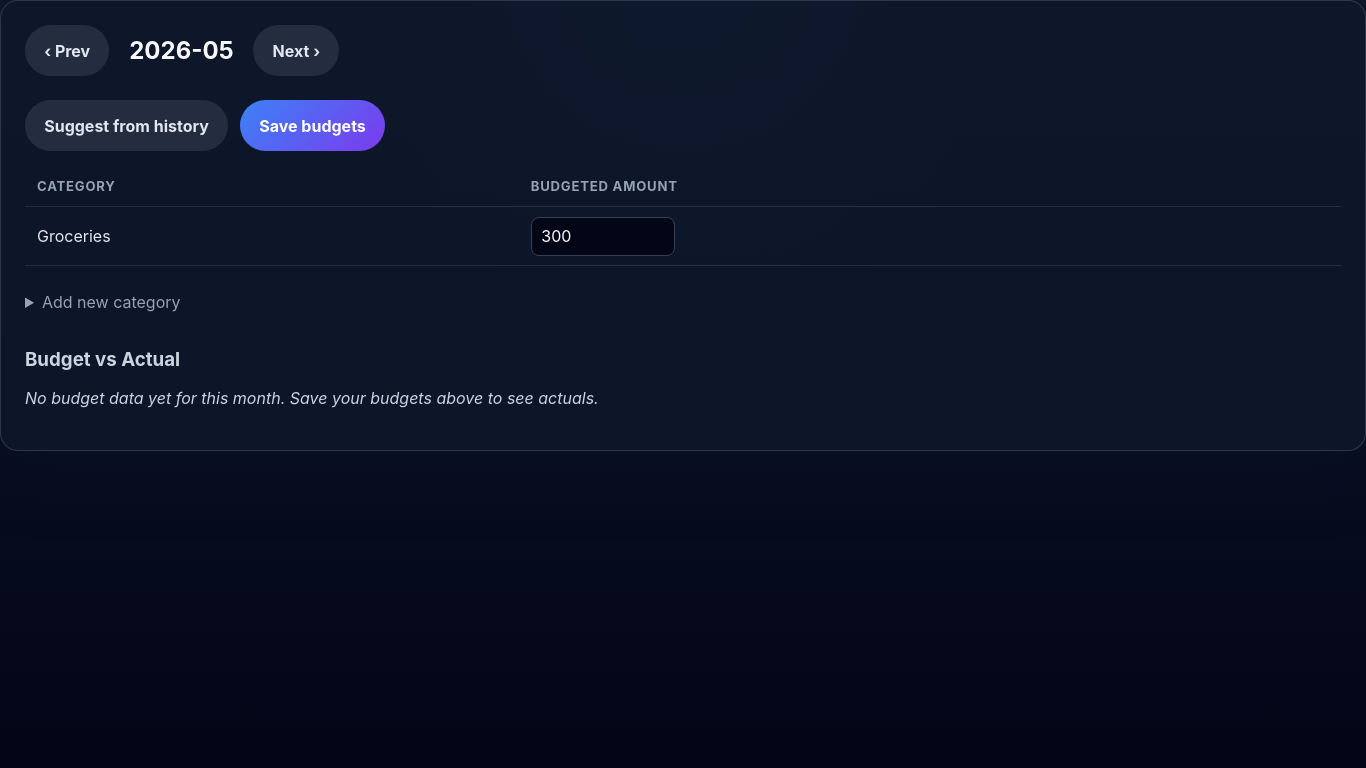
BudgetPage › creates a category without discarding existing budget edits
Expected: the text "Groceries" is shown, [25,207,519,266]
# Edit the Groceries amount
Replace the text in the number field named "budgeted amount for groceries" with "500" at [603, 236], box [531,217,675,256]
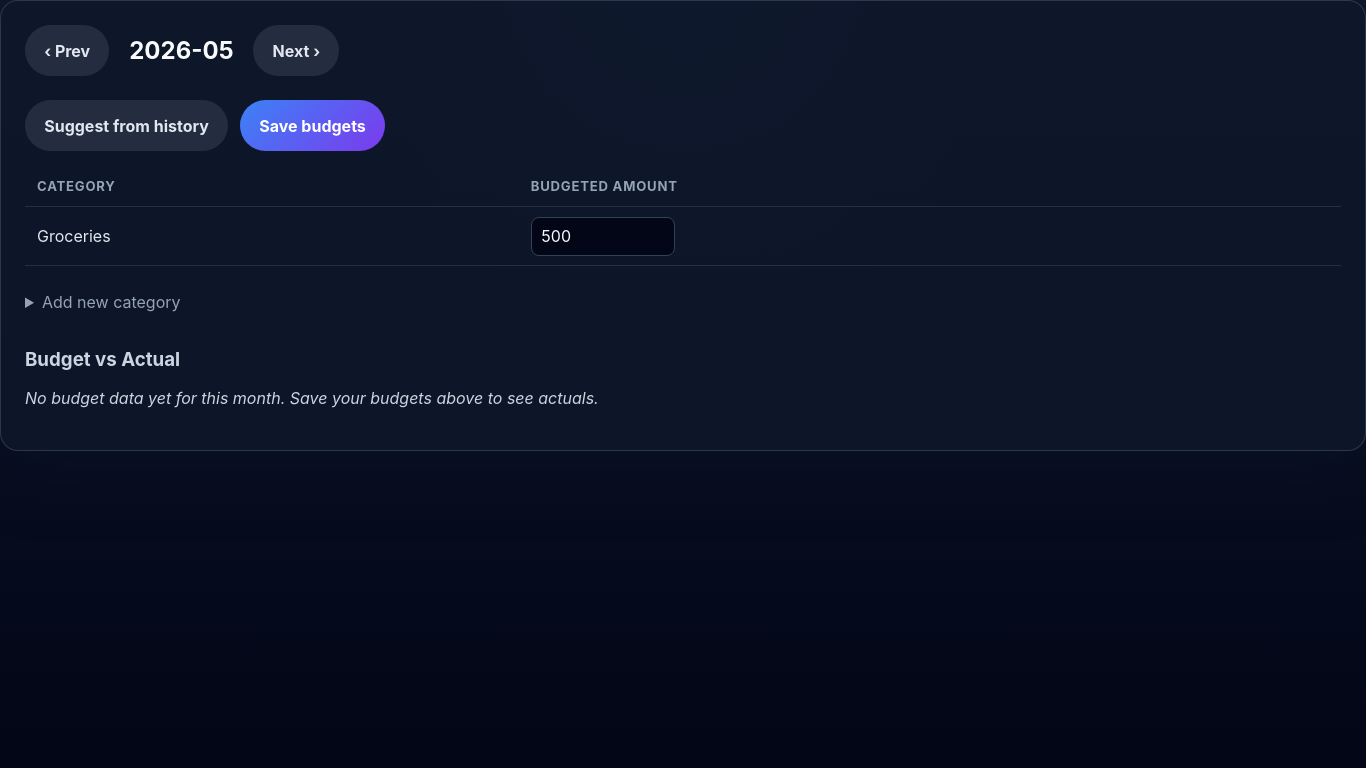
# Open the "Add new category" details panel and fill the form
Click the heading "Add new category" at [111, 302], box [42,292,180,312]
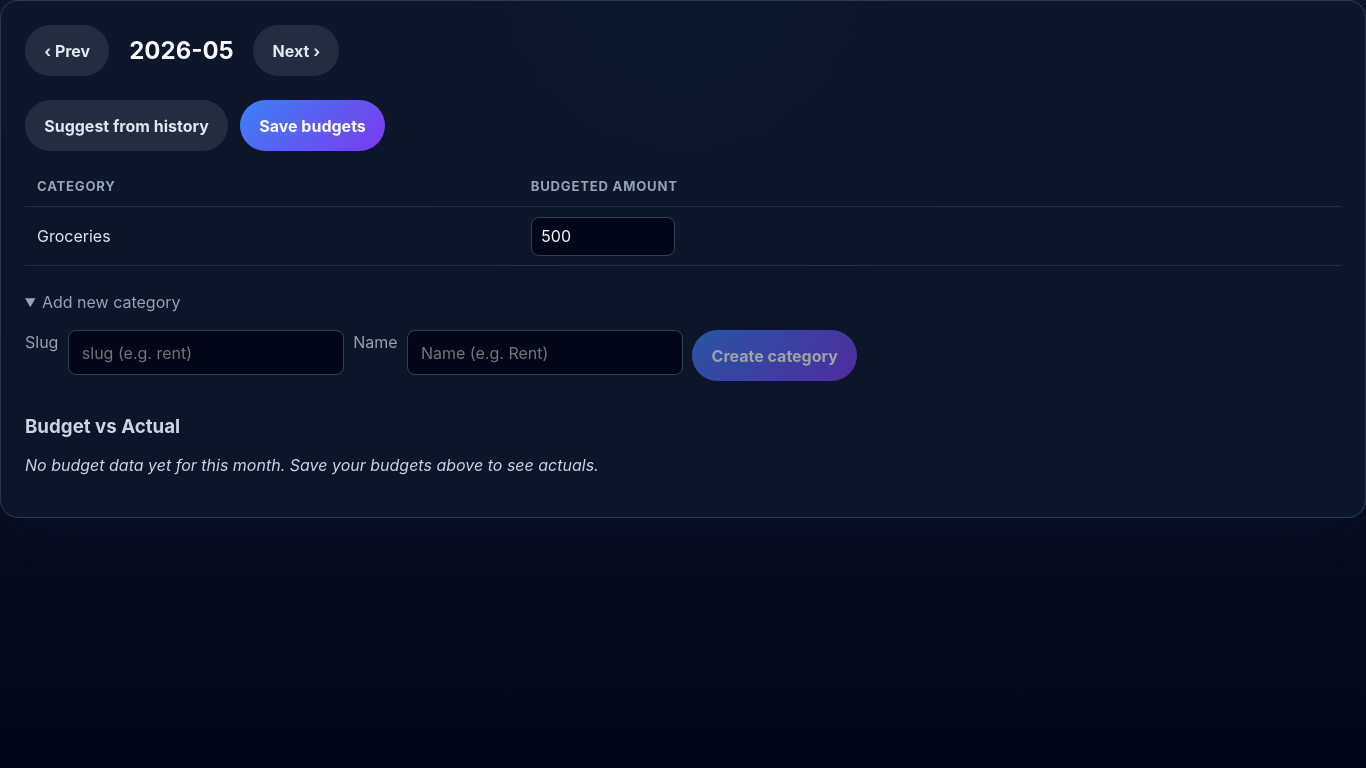
Type "rent" into the field labelled "Slug" at [206, 353], box [68,330,344,375]
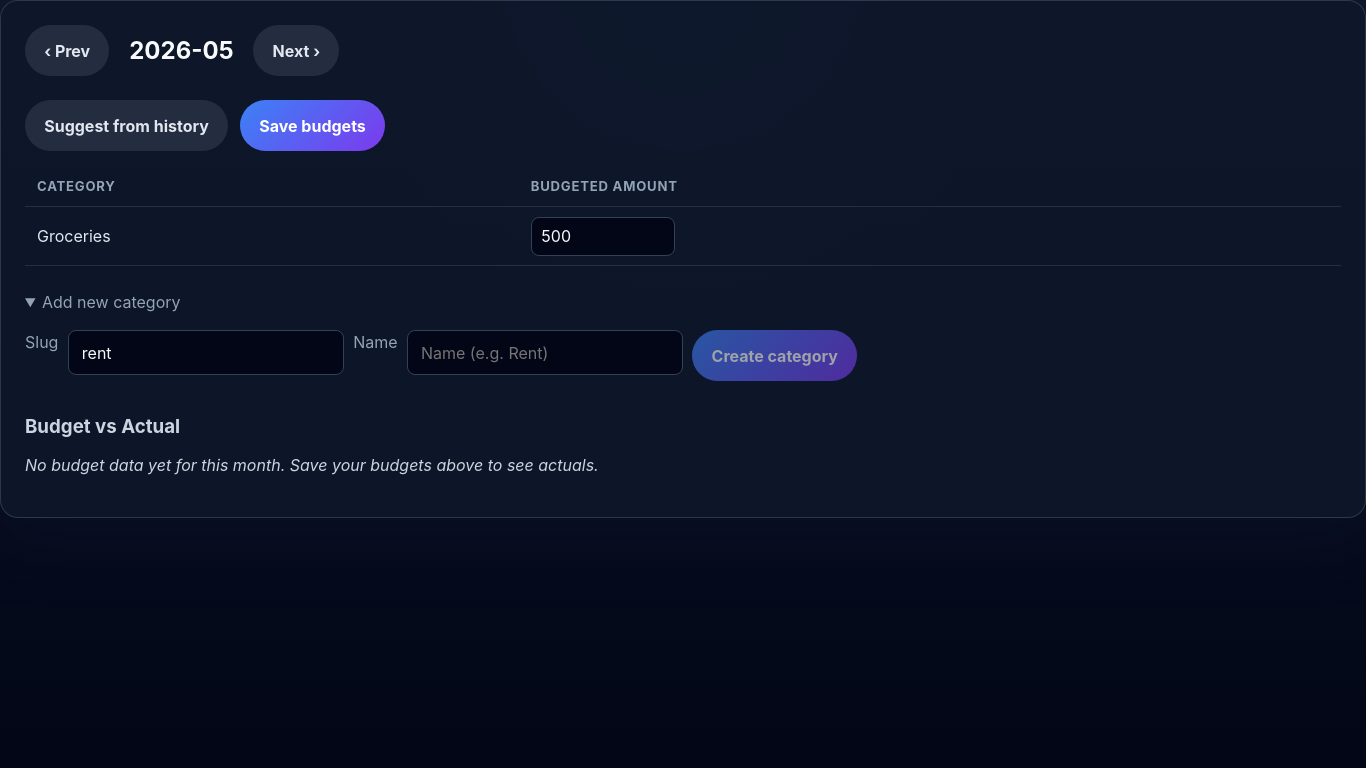
Type "Rent" into the field labelled "Name" at [545, 353], box [407,330,683,375]
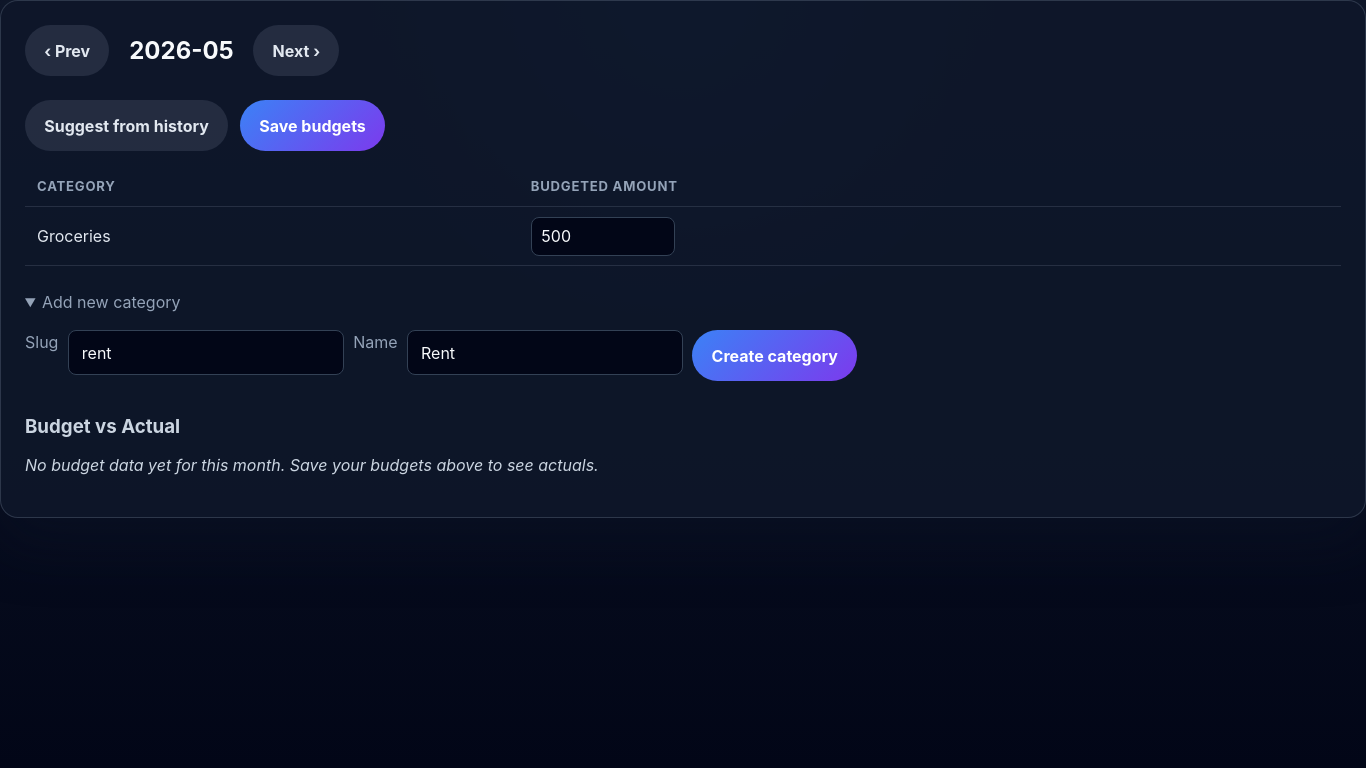
Click the button "Create category" at [775, 356], box [692,330,857,381]
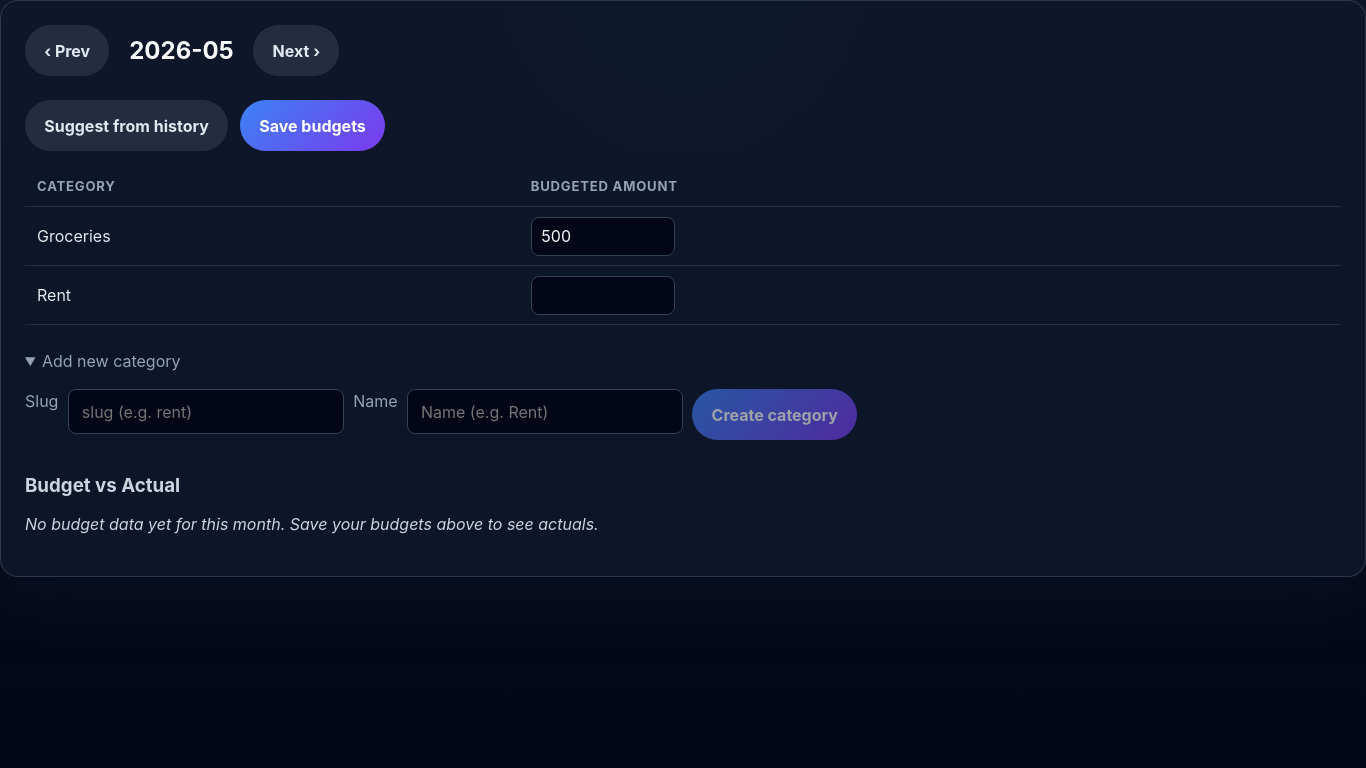
Now the text "Rent" is shown, box [25,266,519,325]
